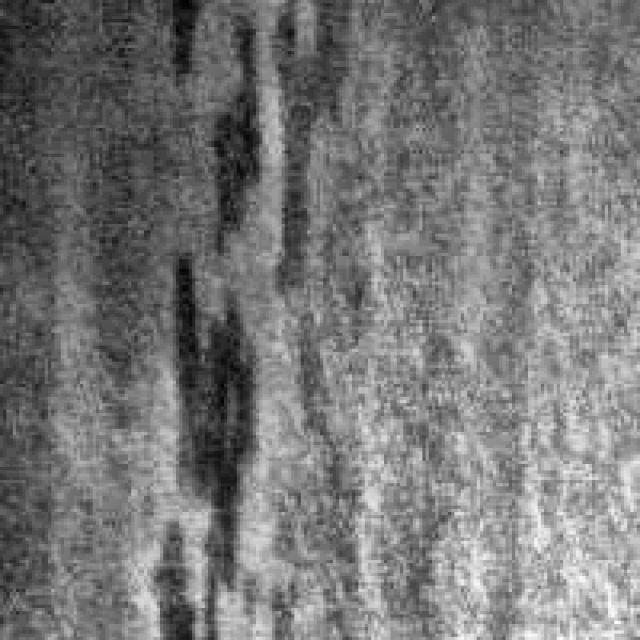Patches: (150, 0, 262, 630), (272, 0, 352, 493)
